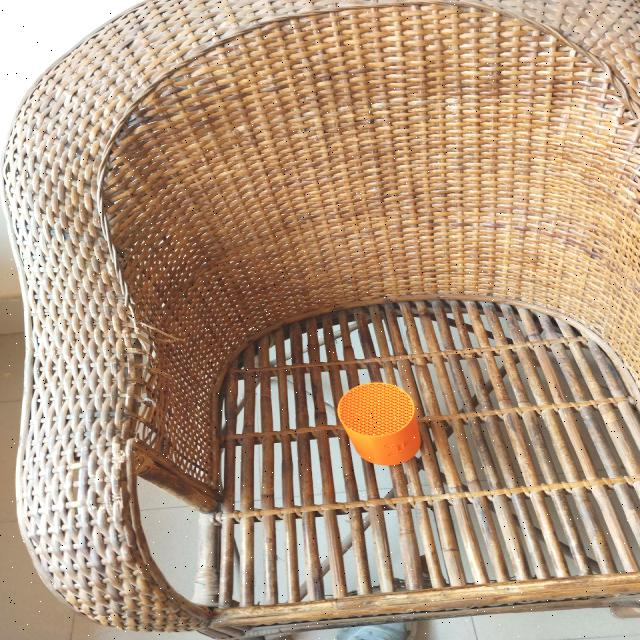Cylinder: (337, 381, 423, 465)
